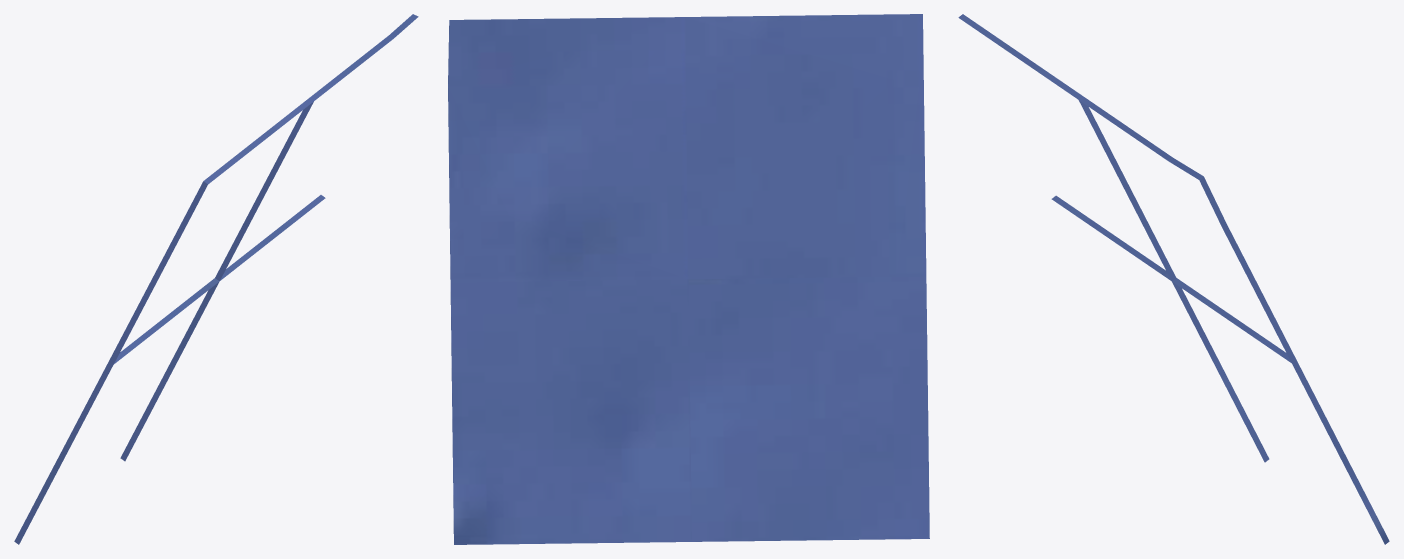
3 views of the same model, side by side, from view 1: azimuth 30°, elevation 25°; view 2: azimuth 150°, elevation 25°; view 3: azimuth 270°, elevation 25° (orthographic). The views are drawn at different scales.
Size of the model in its own units: 19674 by 17797 by 16776.
1 material, 1 textured.
